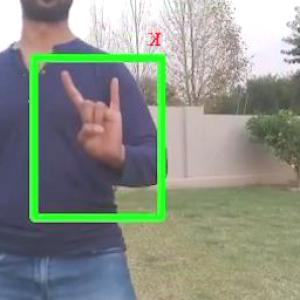takeoff-hand: (49, 58, 135, 174)
